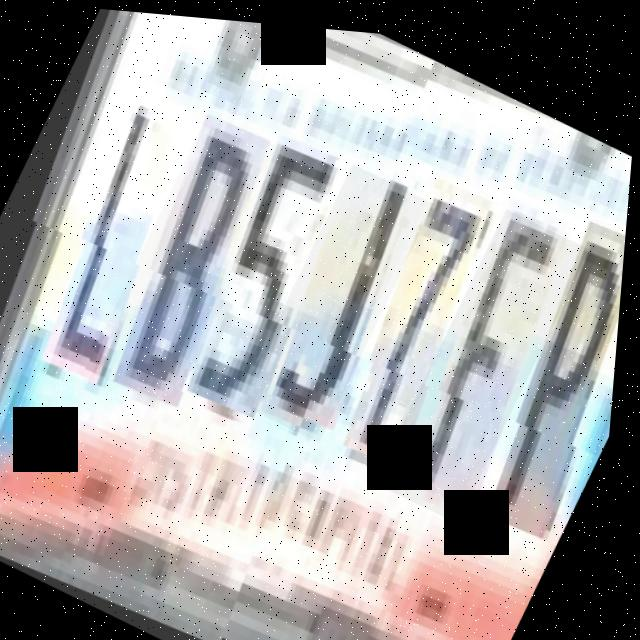5: (166, 120, 367, 423)
7: (316, 174, 512, 481)
B: (89, 102, 294, 412)
F: (380, 192, 596, 523)
J: (243, 151, 439, 443)
L: (17, 82, 213, 390)
P: (457, 214, 628, 547)
